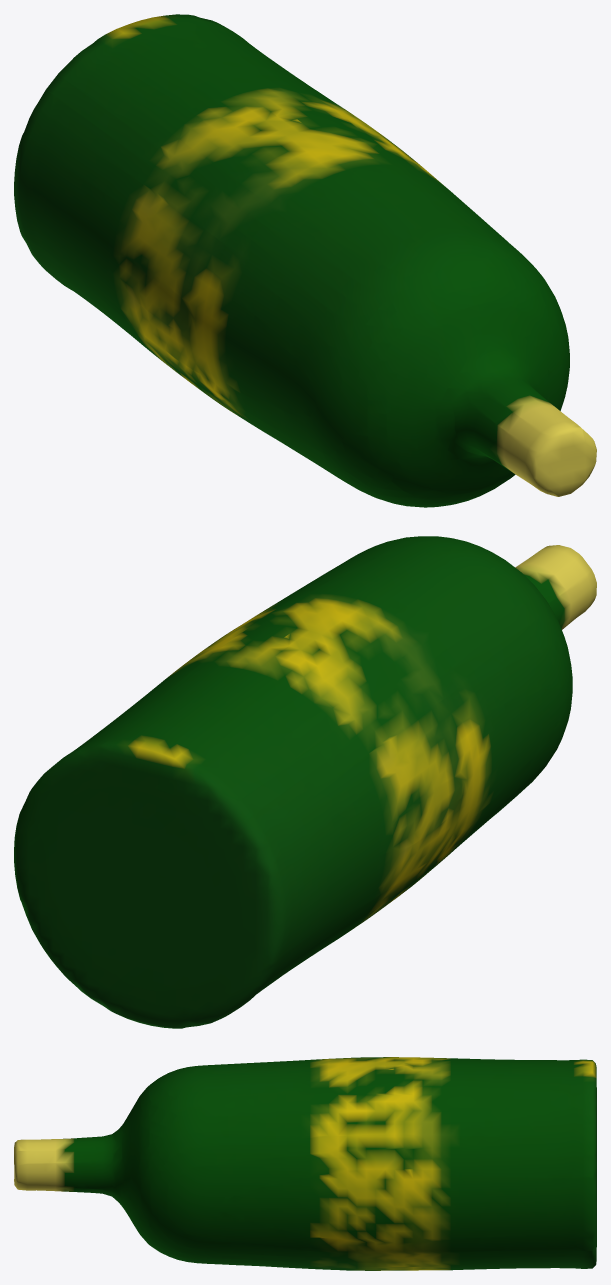
File: a graspable bottle.obj
The picture shows the model from 3 angles, top to bottom: view 1: azimuth 30°, elevation 25°; view 2: azimuth 150°, elevation 25°; view 3: azimuth 270°, elevation 25°; orthographic projection. The views are drawn at different scales.
Size of the model in its own units: 0.3728 by 0.3673 by 1.
